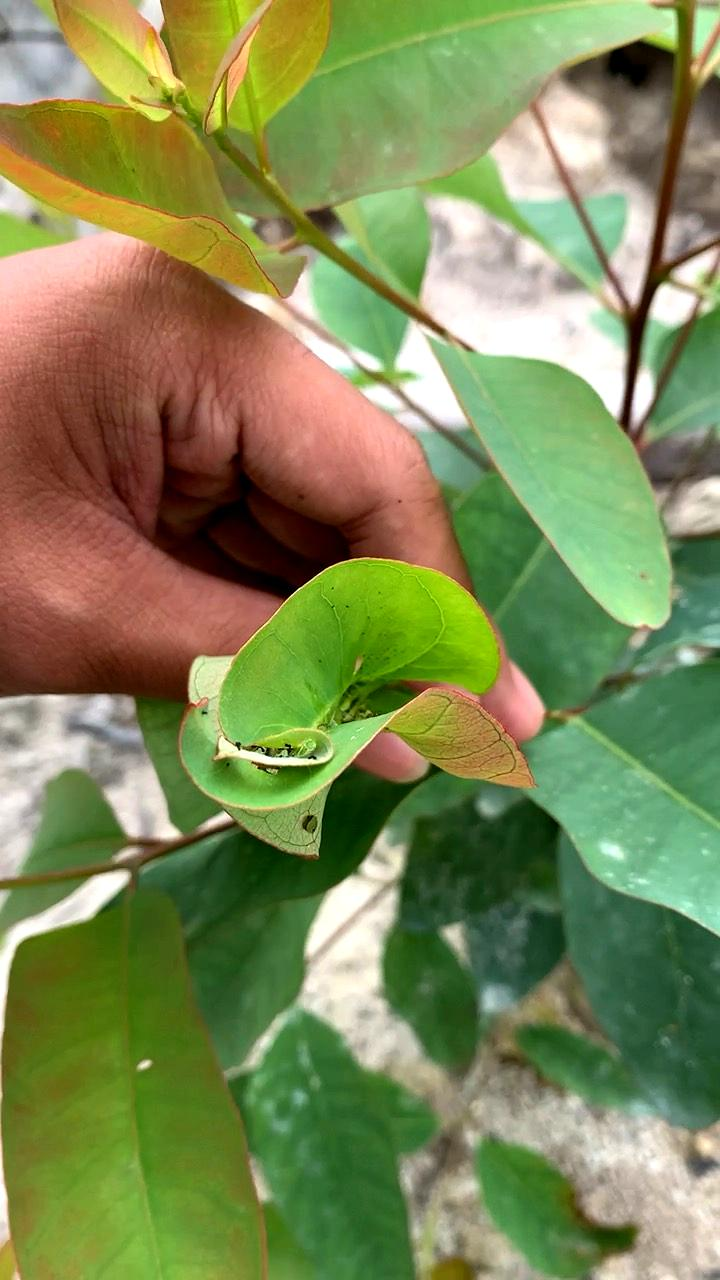Leaf Roller - Leaf: (165, 538, 538, 896)
